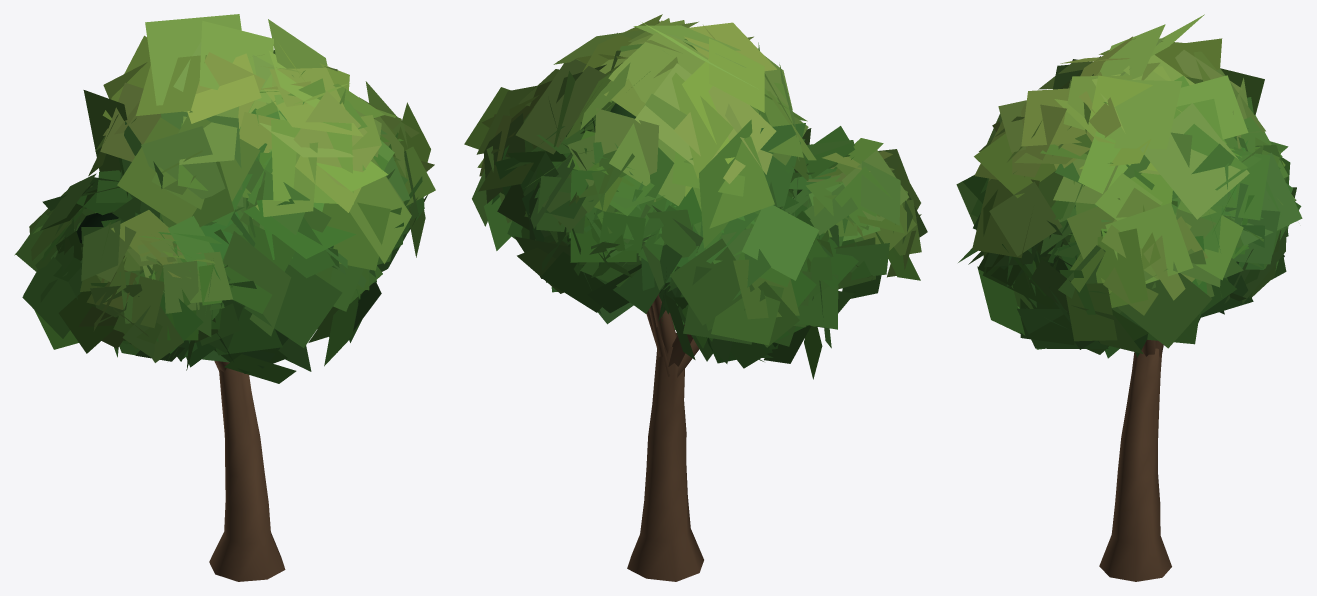
Rendered from oak_a.glb.
3 renders of one model, left to right at view 1: azimuth 30°, elevation 25°; view 2: azimuth 150°, elevation 25°; view 3: azimuth 270°, elevation 25°, orthographic. The views are drawn at different scales.
Visible parts, largest first — view 1: LeafCards, Trunk; view 2: LeafCards, Trunk; view 3: LeafCards, Trunk.
Part boxes in pixels (bbox=[...]): LeafCards: bbox=[14, 14, 435, 383]; Trunk: bbox=[209, 361, 285, 581]; LeafCards: bbox=[464, 14, 927, 379]; Trunk: bbox=[627, 293, 703, 581]; LeafCards: bbox=[956, 14, 1302, 358]; Trunk: bbox=[1099, 339, 1171, 581].
Size of the model in its own units: 6.74 by 8.81 by 5.23.
